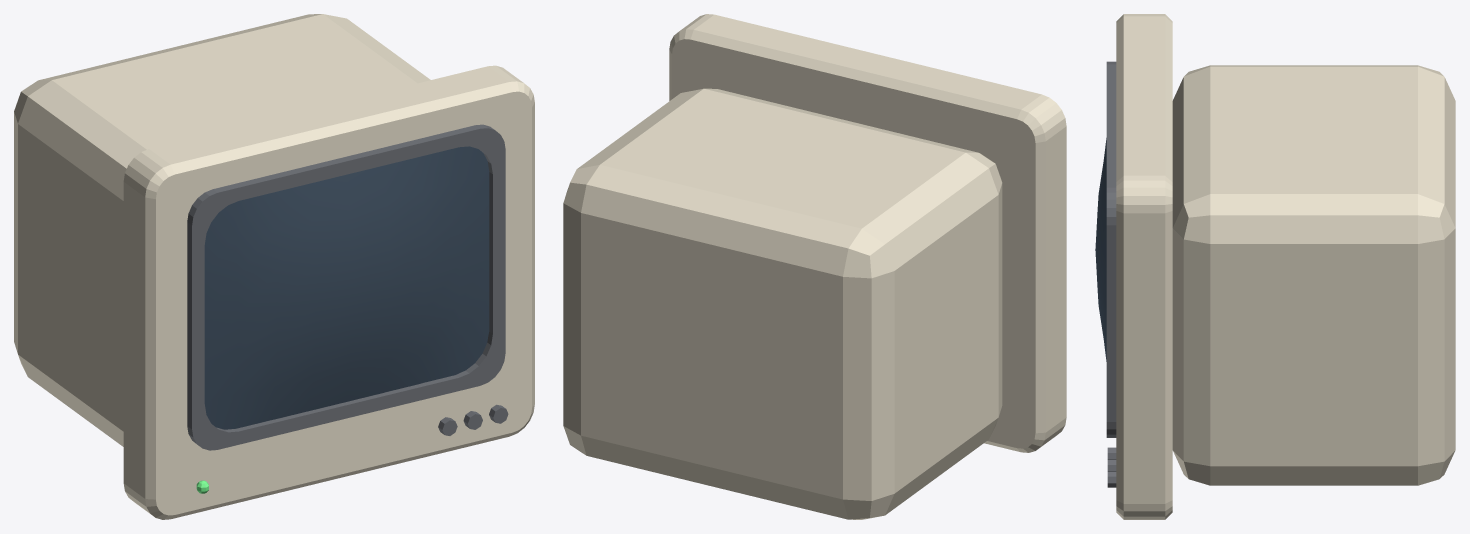
File: Garage_Monitor_CRT.glb
3 views of the same model, side by side, from view 1: azimuth 30°, elevation 25°; view 2: azimuth 150°, elevation 25°; view 3: azimuth 270°, elevation 25° (orthographic). The views are drawn at different scales.
Parts seen in each view (by area): view 1: Garage_Monitor_CRT; view 2: Garage_Monitor_CRT; view 3: Garage_Monitor_CRT.
Boxes of the visible parts, x1=… form: Garage_Monitor_CRT: x1=14, y1=14, x2=534, y2=519; Garage_Monitor_CRT: x1=563, y1=14, x2=1066, y2=519; Garage_Monitor_CRT: x1=1095, y1=14, x2=1455, y2=519.
Bounding box in the file's own units: 0.46 × 0.4 × 0.382.
